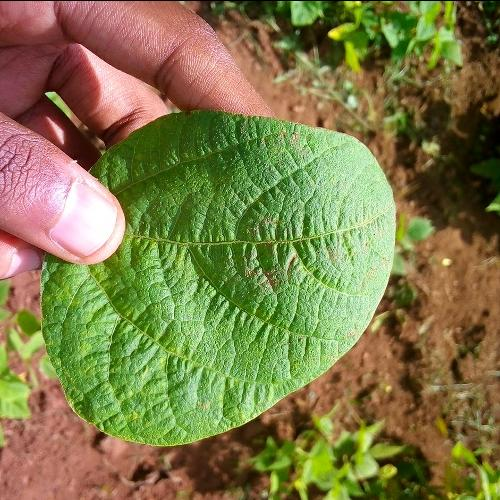sehat: (52, 132, 411, 420)
